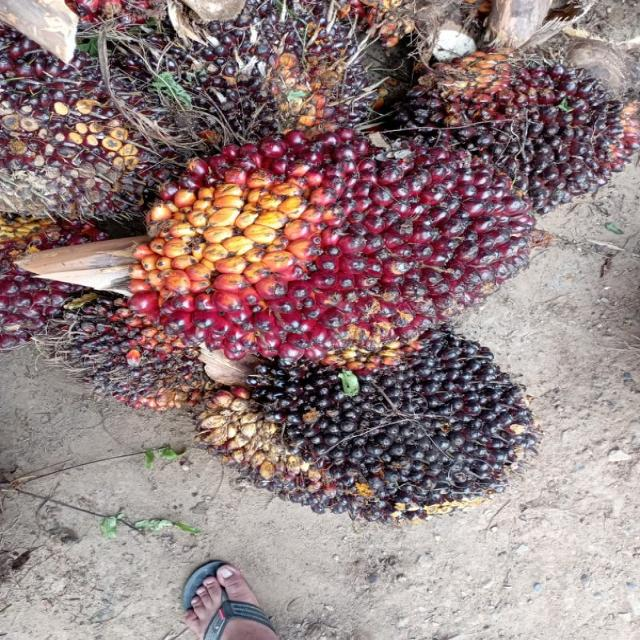fraksi 00: (148, 277, 592, 586), (336, 2, 640, 224)
fraksi 1: (106, 106, 564, 381)
